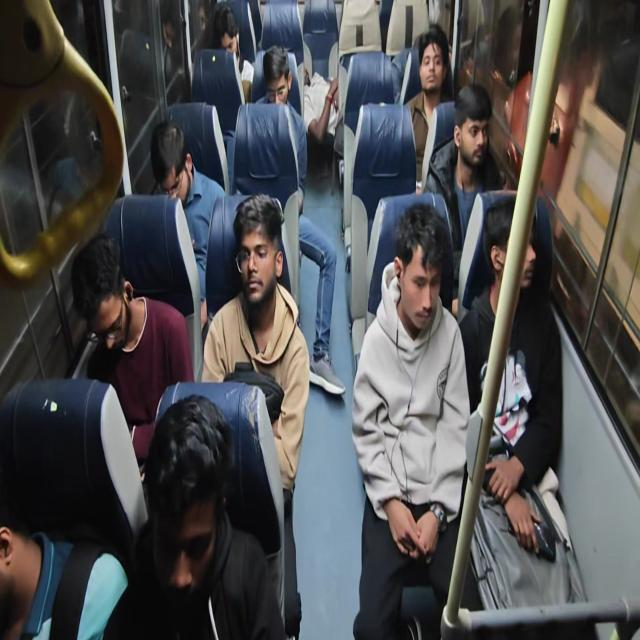person: (351, 202, 475, 638), (457, 195, 584, 610), (200, 193, 311, 636), (102, 393, 287, 639), (0, 377, 146, 639), (255, 46, 346, 396), (71, 232, 194, 469), (422, 82, 507, 309), (149, 119, 226, 328), (0, 523, 130, 639), (404, 24, 455, 192), (210, 2, 254, 104), (191, 0, 212, 65)
